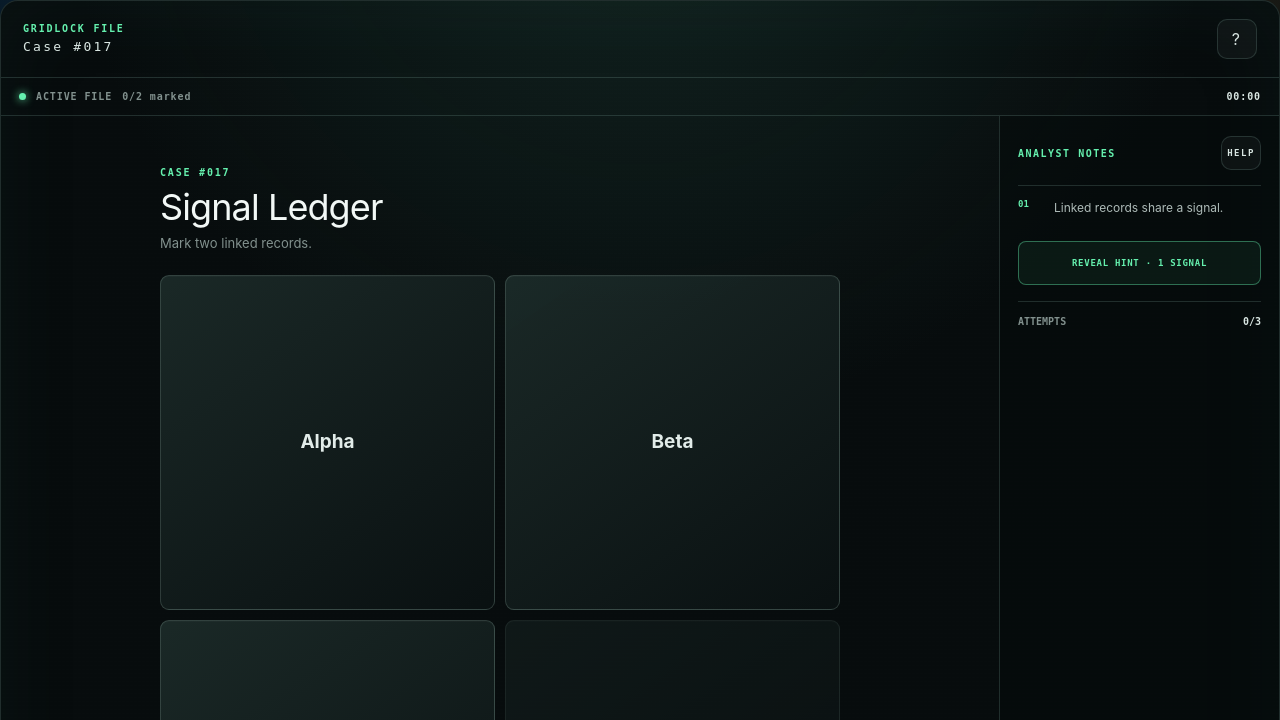
reveals hints without correctness feedback and includes them in resumable progress
The width and height of the screenshot is (1280, 720).
Step 1. Click the button "REVEAL HINT · 1 SIGNAL" → (1140, 263), box top-left (1018, 241), bottom-right (1261, 285)
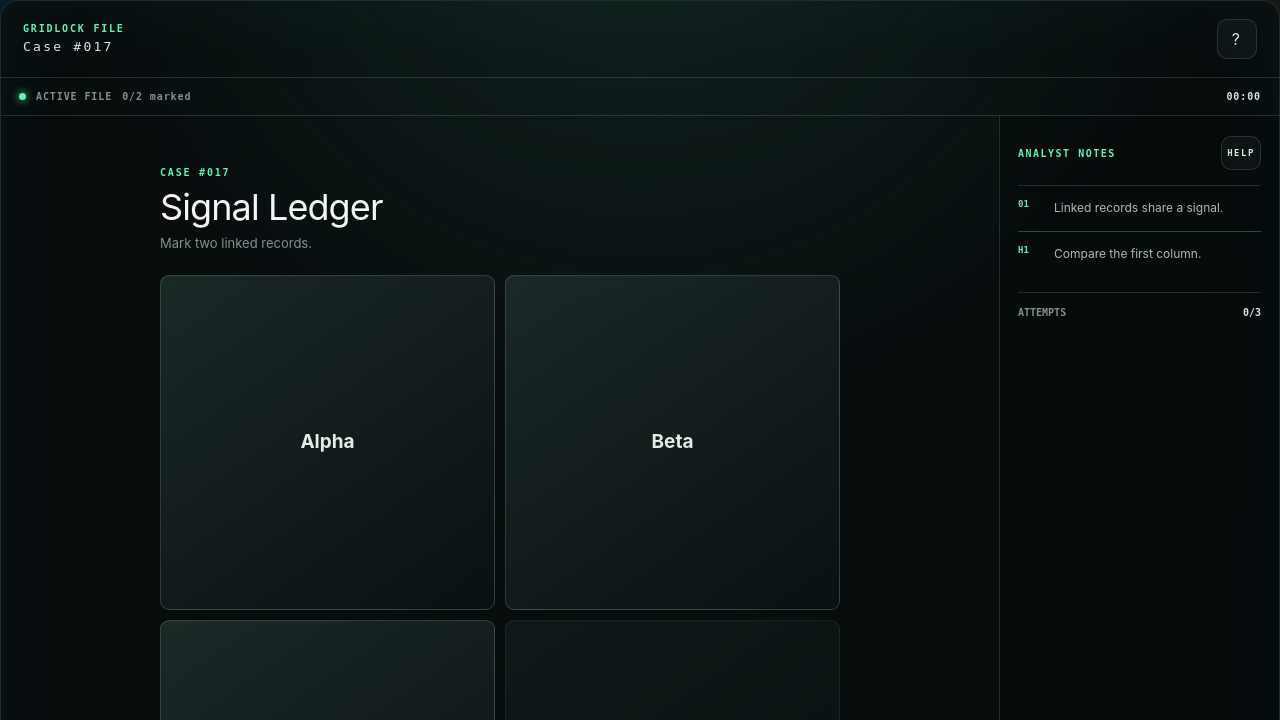
Now the text "Compare the first column." is shown, box top-left (1054, 246), bottom-right (1201, 261)
